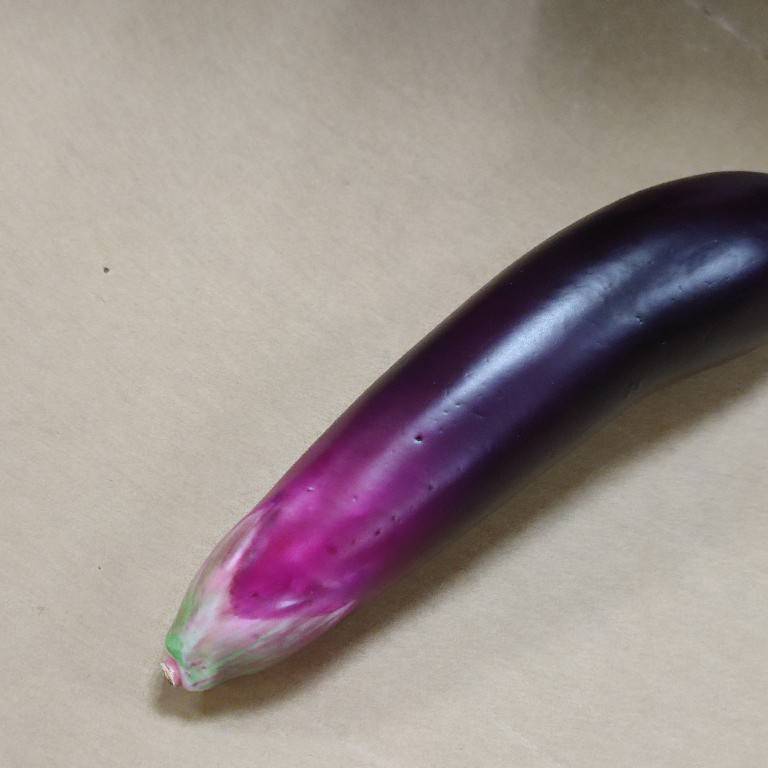fruit_eggplant: (153, 166, 768, 700)
